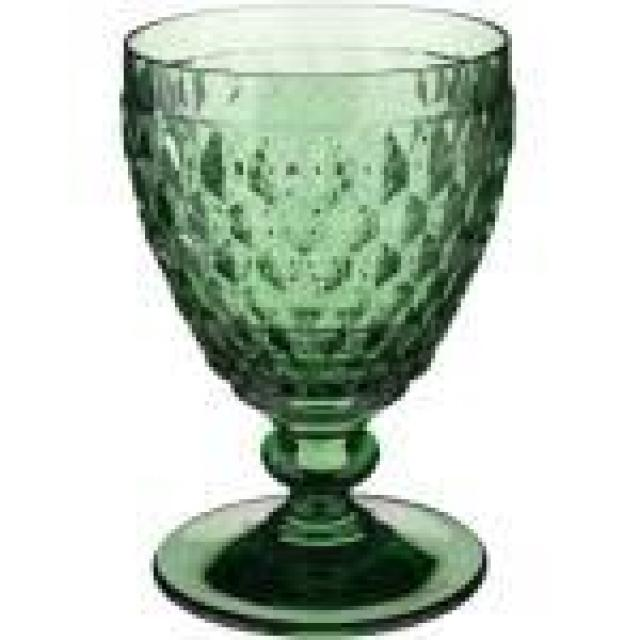Glass-Non-Biodegradable but Recyclable-: (117, 39, 513, 623)
